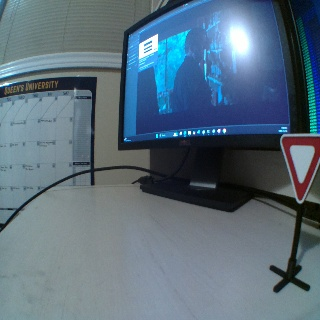sign_yield: (278, 134, 319, 202)
